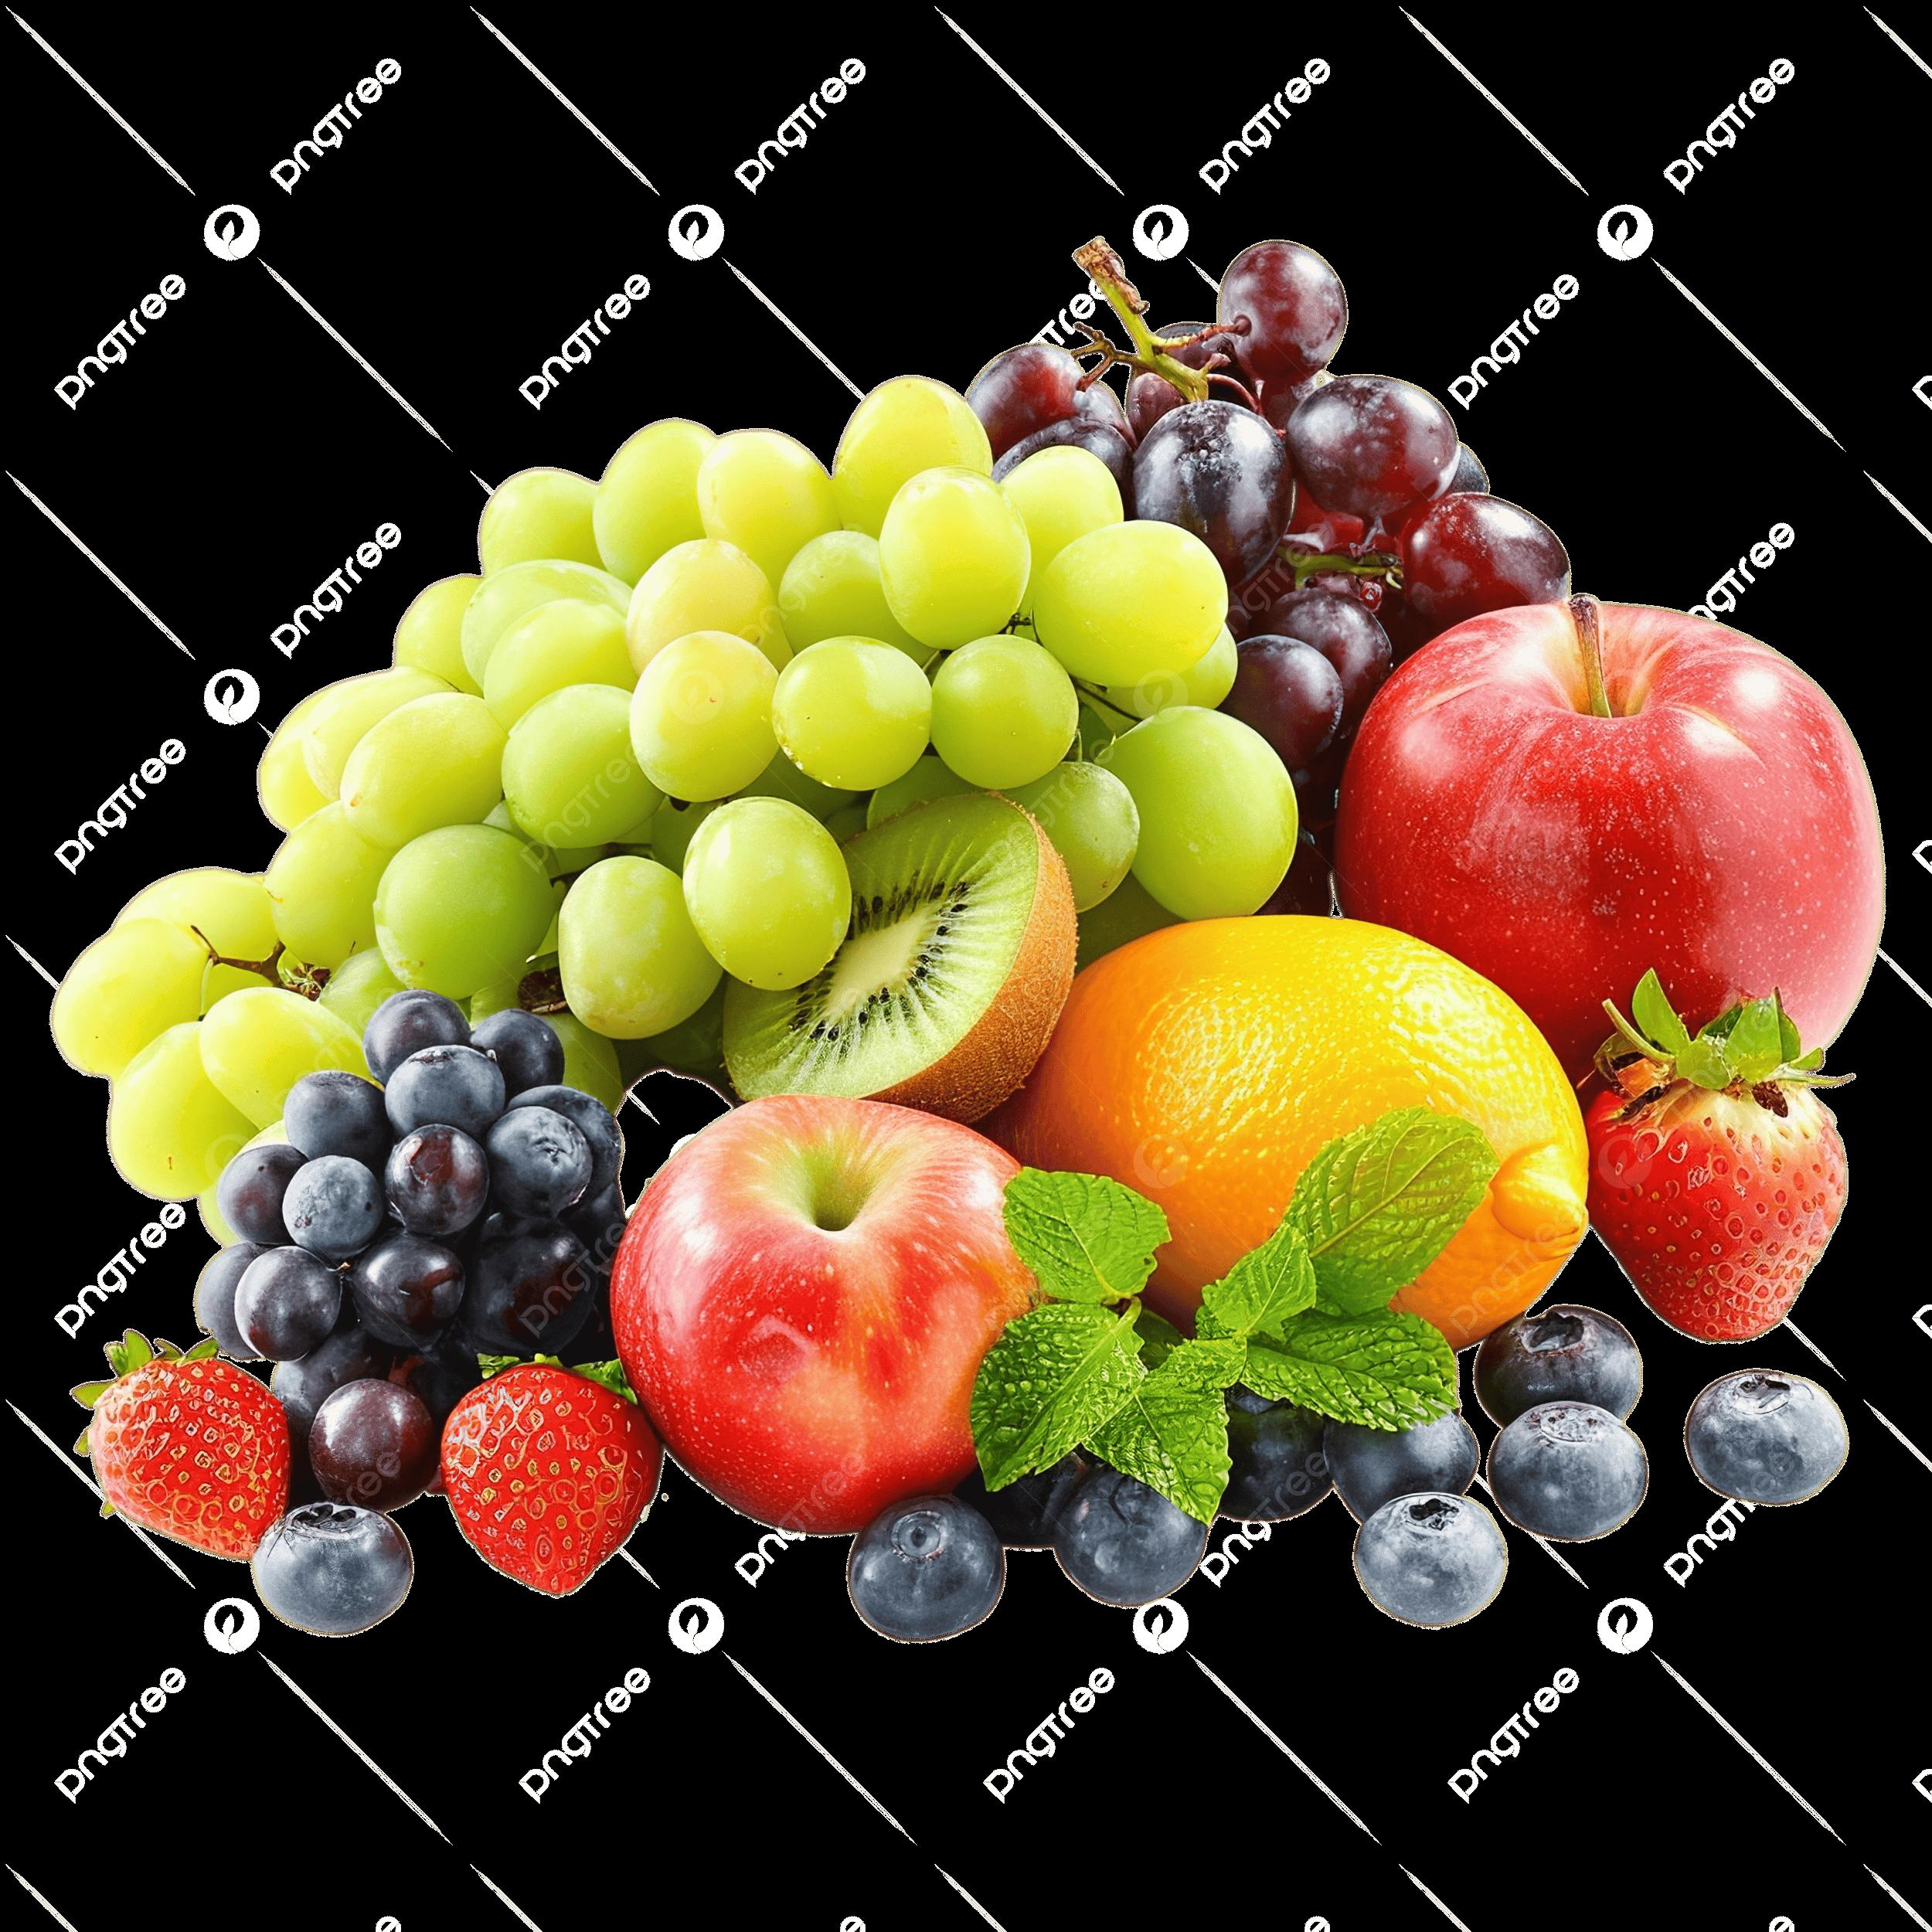apple: (1329, 600, 1856, 1005), (633, 1100, 1023, 1490)
grape: (50, 379, 1254, 869), (989, 228, 1585, 603), (209, 996, 612, 1373)
kiwi: (750, 812, 1063, 1122)
strawberry: (1596, 993, 1845, 1355), (453, 1345, 656, 1621), (62, 1322, 283, 1553)
